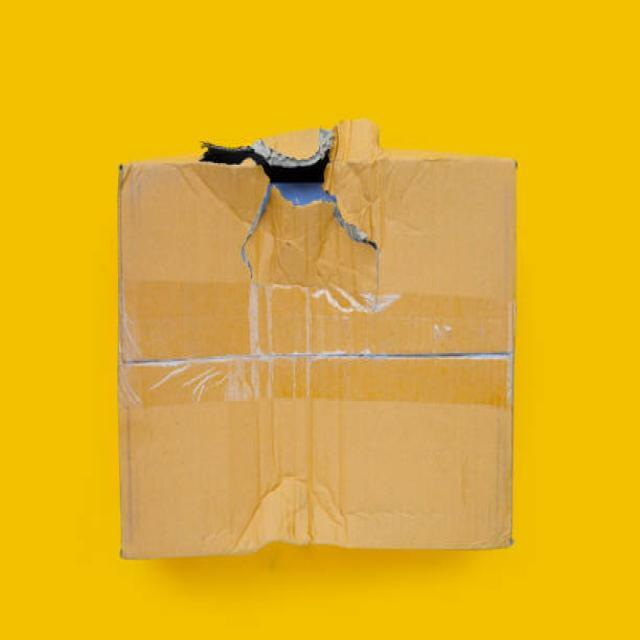box: (119, 136, 515, 559)
tear: (201, 142, 337, 207)
